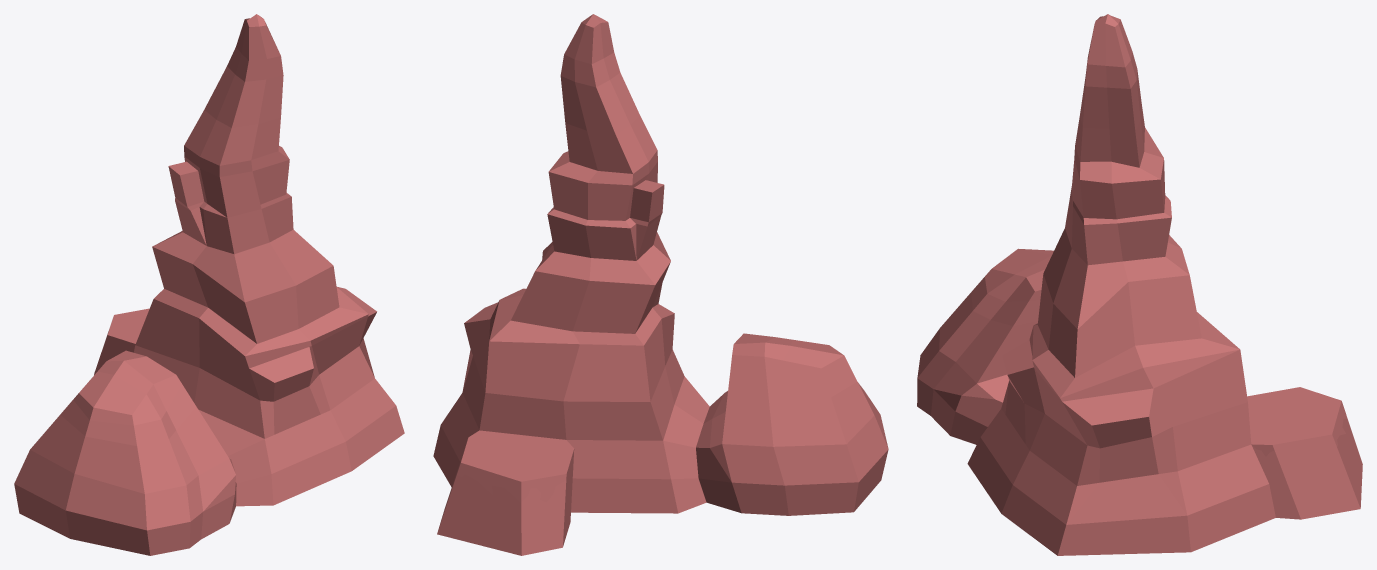
File: Rock 2.fbx
3 renders of one model, left to right at view 1: azimuth 30°, elevation 25°; view 2: azimuth 150°, elevation 25°; view 3: azimuth 270°, elevation 25°, orthographic. The views are drawn at different scales.
Parts seen in each view (by area): view 1: pCube8; view 2: pCube8; view 3: pCube8.
Part boxes in pixels (x1,y1,x2,y2): pCube8: (14,14,404,555); pCube8: (433,14,888,555); pCube8: (917,14,1362,555).
Bounding box in the file's own units: 291 × 320 × 272.
